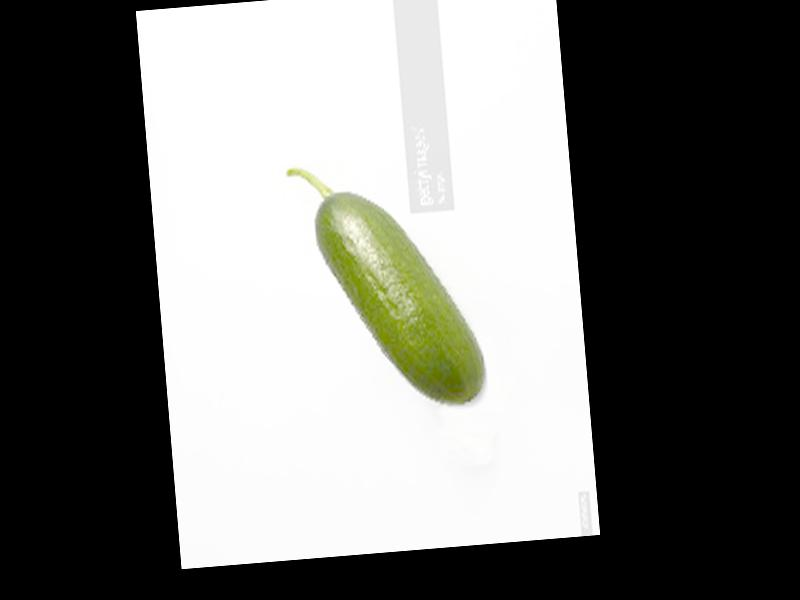Cucumber: (287, 149, 489, 414)
